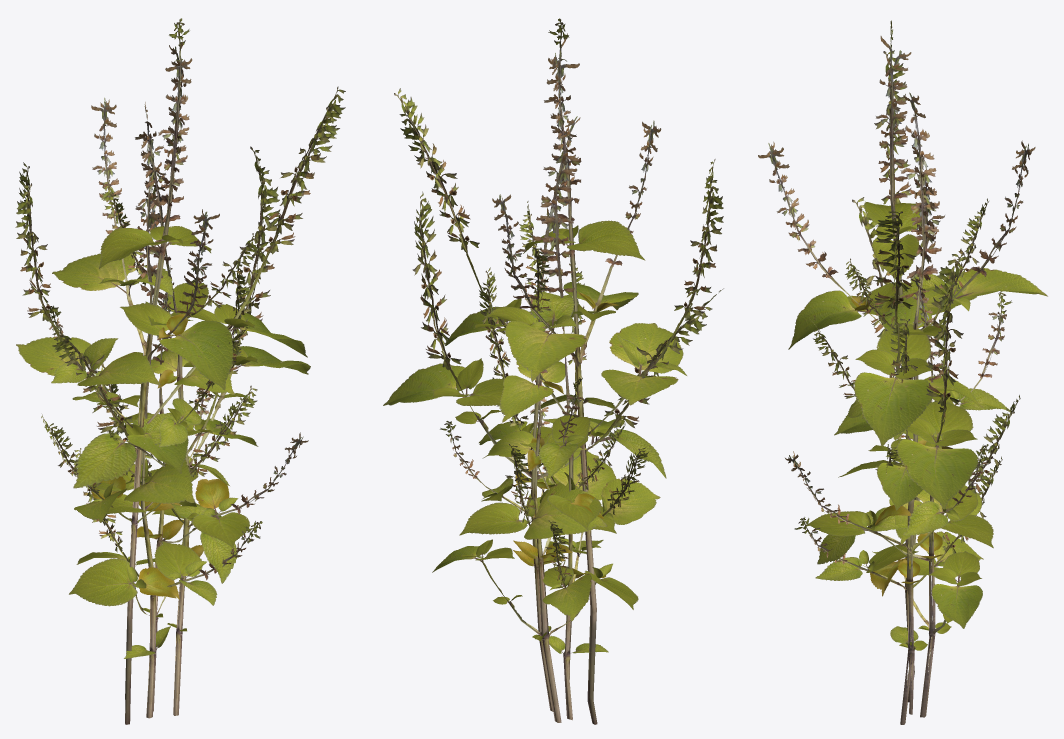
The model's file is shrub_03_LOD1.fbx.
3 renders of one model, left to right at view 1: azimuth 30°, elevation 25°; view 2: azimuth 150°, elevation 25°; view 3: azimuth 270°, elevation 25°, orthographic. The views are drawn at different scales.
Parts seen in each view (by area): view 1: shrub_03_a.001, shrub_03_b.001, shrub_03_c.001, shrub_03_d.001; view 2: shrub_03_a.001, shrub_03_b.001, shrub_03_c.001, shrub_03_d.001; view 3: shrub_03_a.001, shrub_03_b.001, shrub_03_c.001, shrub_03_d.001.
Part boxes in pixels (box(x1,y1,x2,y2)): shrub_03_a.001: box(15, 18, 345, 724); shrub_03_b.001: box(46, 102, 310, 715); shrub_03_c.001: box(46, 175, 262, 718); shrub_03_d.001: box(69, 265, 237, 711); shrub_03_a.001: box(394, 18, 723, 724); shrub_03_b.001: box(383, 116, 723, 711); shrub_03_c.001: box(479, 199, 616, 720); shrub_03_d.001: box(432, 277, 638, 722); shrub_03_a.001: box(758, 20, 1047, 702); shrub_03_b.001: box(785, 92, 1020, 724); shrub_03_c.001: box(794, 181, 1012, 714); shrub_03_d.001: box(817, 276, 988, 717).
Bounding box in the file's own units: 0.2006 × 0.4028 × 0.1512.
1 material, 1 textured.
